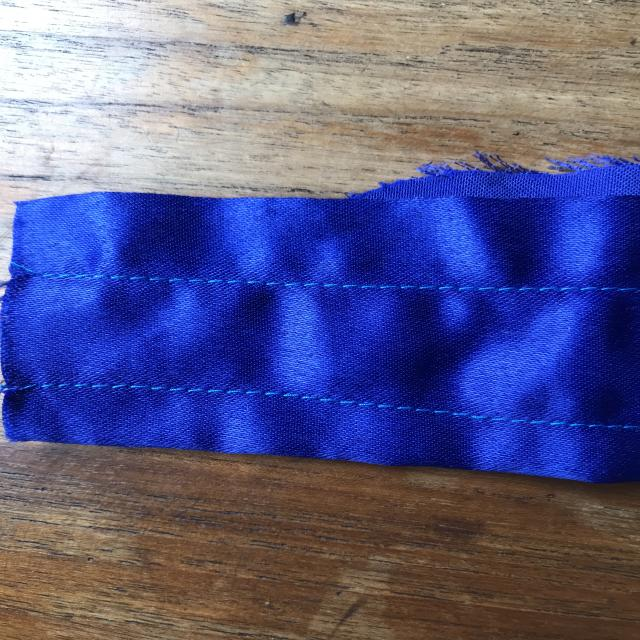good: (232, 379, 510, 437), (227, 270, 499, 314)
